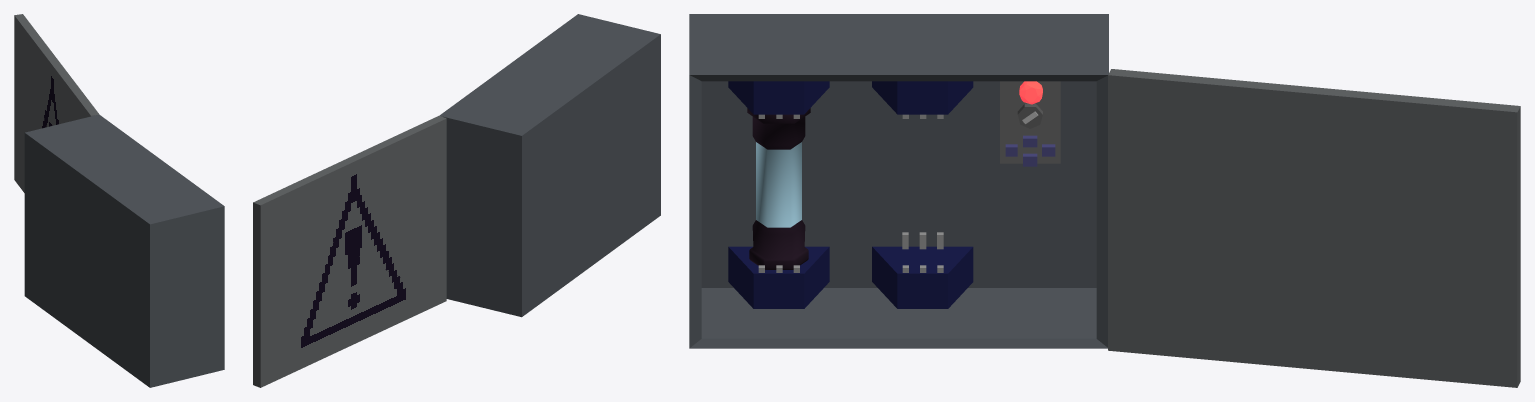
Rendered from CaixadeFusivelabertaCF.fbx.
3 views of the same model, side by side, from view 1: azimuth 30°, elevation 25°; view 2: azimuth 150°, elevation 25°; view 3: azimuth 270°, elevation 25° (orthographic). The views are drawn at different scales.
Parts seen in each view (by area): view 1: Caixa da F., Porta; view 2: Caixa da F., Porta; view 3: Porta, Caixa da F., Base.001, Fusível, Base, Cube.002.
Boxes of the visible parts, x1,y1,x2,y2 form: Caixa da F.: (24, 114, 224, 387); Porta: (14, 14, 99, 192); Caixa da F.: (439, 14, 660, 317); Porta: (253, 116, 446, 387); Porta: (1108, 69, 1520, 387); Caixa da F.: (689, 14, 1108, 348); Base.001: (872, 81, 973, 308); Fusível: (747, 108, 810, 269); Base: (728, 81, 829, 308); Cube.002: (1000, 81, 1060, 166).
Size of the model in its own units: 349 by 456 by 1247.
